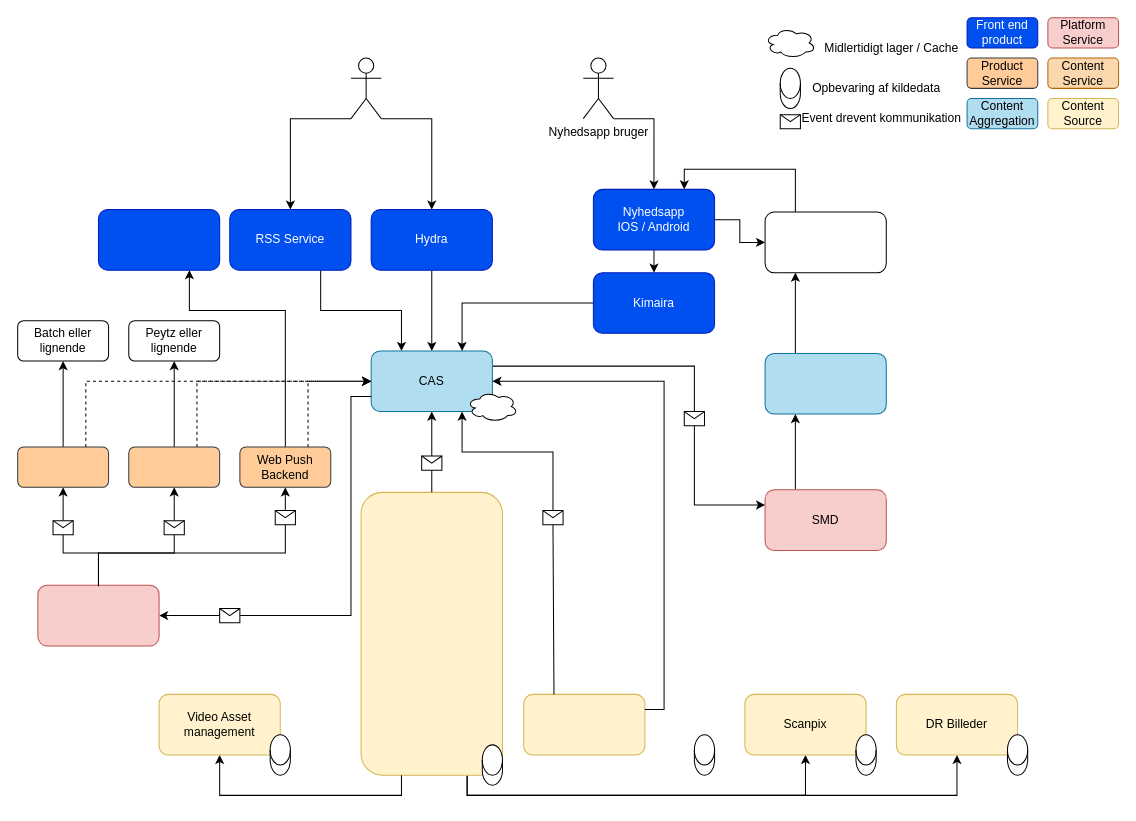
Image size: 1136x821. Some labels were removed from this diagram. Each missing label, with the box of its shape:
Batch: (764, 211, 886, 273)
CMS: (360, 491, 502, 775)
Dr. Edition: (523, 693, 645, 755)
DR.dk bruger: (350, 57, 381, 119)
Newsapp Push: (17, 446, 109, 487)
Nyhedsapp push Service: (764, 352, 886, 414)
Nyhedsbreve Push: (128, 446, 220, 487)
Push Backend: (37, 584, 159, 646)
Web Push Endpoint: (97, 209, 220, 270)
